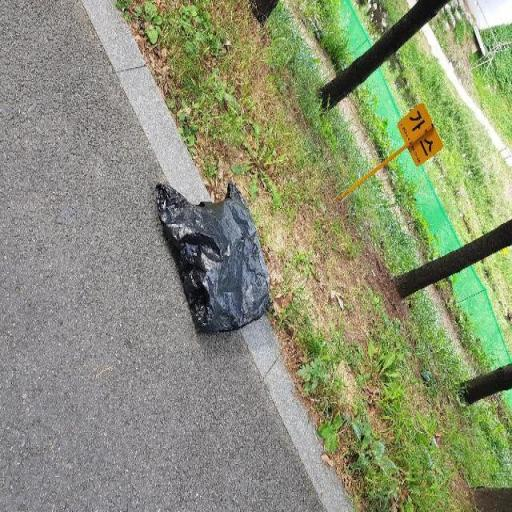plastic-bag: (153, 175, 276, 342)
